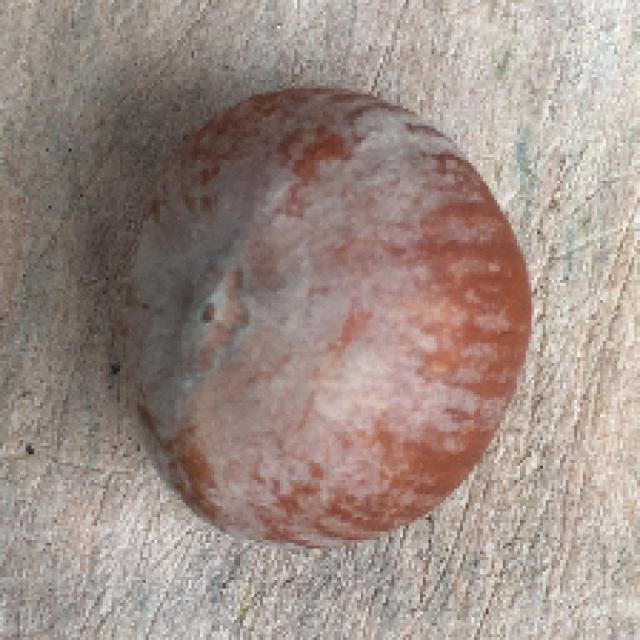qualityHazelnut: (110, 80, 535, 554)
